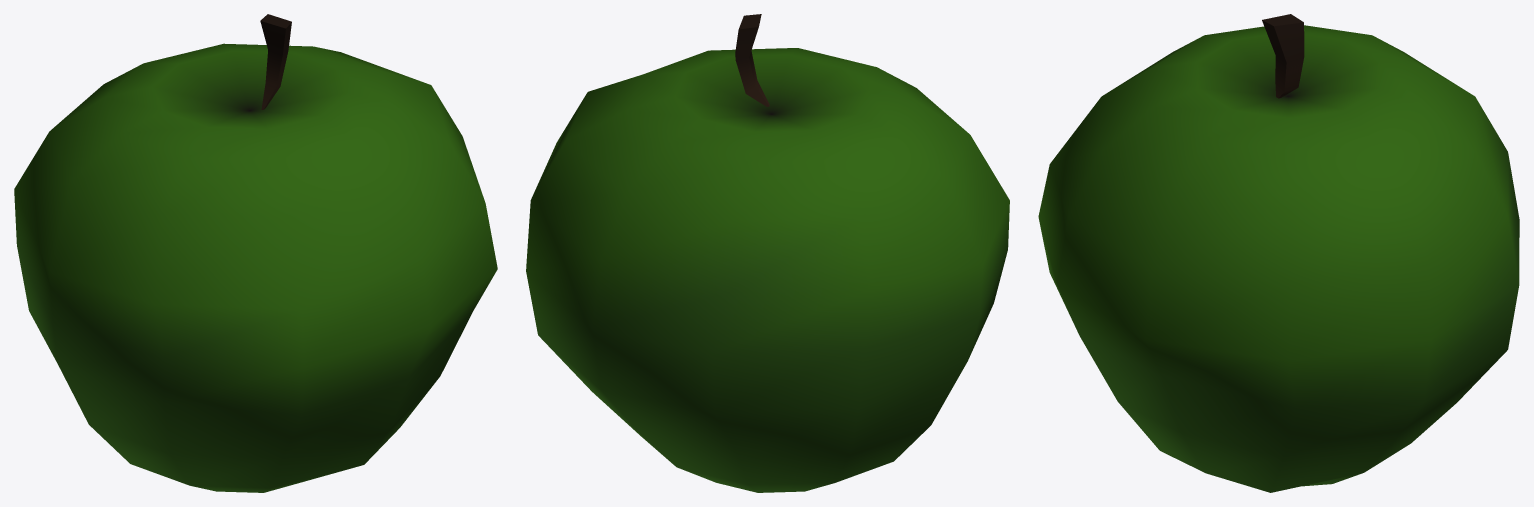
The model's file is greenApple.fbx.
3 renders of one model, left to right at view 1: azimuth 30°, elevation 25°; view 2: azimuth 150°, elevation 25°; view 3: azimuth 270°, elevation 25°, orthographic. The views are drawn at different scales.
Visible parts, largest first — view 1: apple5; view 2: apple5; view 3: apple5.
Boxes of the visible parts, bbox=[...] form: apple5: bbox=[14, 14, 497, 492]; apple5: bbox=[526, 14, 1009, 492]; apple5: bbox=[1038, 14, 1519, 492].
Size of the model in its own units: 146 by 143 by 139.
